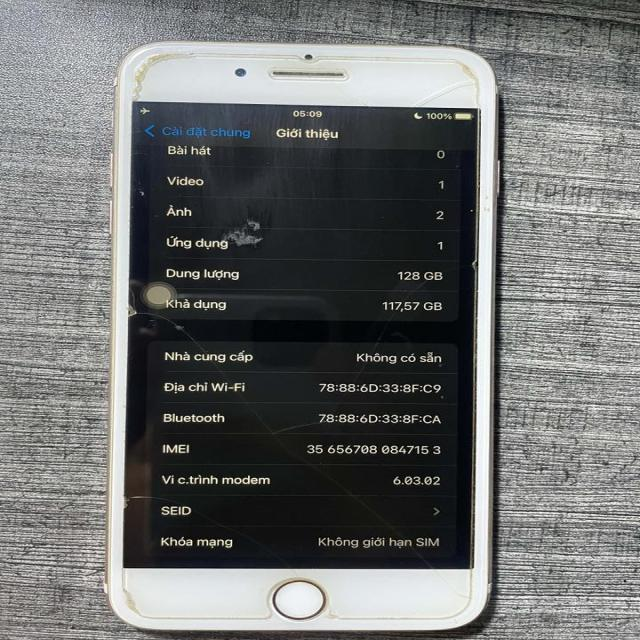gen_6: (102, 29, 503, 635)
physical_damage: (145, 298, 464, 558), (412, 48, 492, 114), (113, 572, 173, 624), (130, 47, 188, 98), (113, 291, 155, 329), (322, 602, 348, 618)
scratch: (212, 214, 282, 257)
